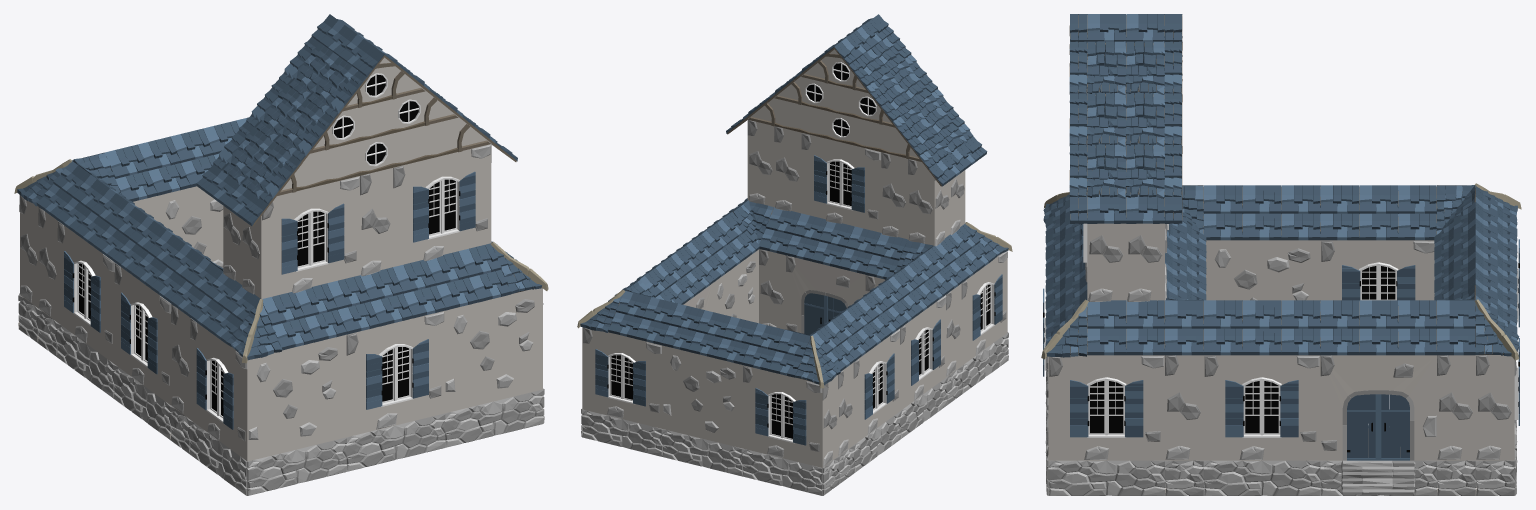
Rendered from House_7.fbx.
3 views of the same model, side by side, from view 1: azimuth 30°, elevation 25°; view 2: azimuth 150°, elevation 25°; view 3: azimuth 270°, elevation 25° (orthographic). The views are drawn at different scales.
Visible parts, largest first — view 1: WINDOW_04_16, WALL_06_3, WALL_06_2, WINDOW_04_17, WINDOW_04_18, WINDOW_04_19, WINDOW_04_21, WINDOW_04_22, WALL_06_7, FOUNDATION_01_2, FOUNDATION_01_3, FOUNDATION_01_4 (+79 smaller); view 2: WINDOW_04_23, WALL_06_4, WINDOW_04_24, WINDOW_04_20, DOOR_03_2, WINDOW_04_19, WINDOW_04_22, WINDOW_04_21, WALL_06_5, FOUNDATION_01_10, FOUNDATION_01_9, FOUNDATION_01_8 (+73 smaller); view 3: WINDOW_04_14, DOOR_03_4, WINDOW_04_15, WINDOW_04_25, WALL_06_6, FOUNDATION_01_6, FOUNDATION_01_5, WALL_03_6, WALL_03_5, WALL_03_7, WALL_03_9, WALL_03_10 (+55 smaller).
Part boxes in pixels (x1,y1,x2,y2): WINDOW_04_16: (346, 311, 444, 437); WALL_06_3: (444, 288, 542, 413); WALL_06_2: (247, 335, 345, 460); WINDOW_04_17: (392, 143, 491, 266); WINDOW_04_18: (261, 176, 359, 298); WINDOW_04_19: (190, 318, 249, 461); WINDOW_04_21: (114, 263, 171, 405); WINDOW_04_22: (57, 221, 114, 363); WALL_06_7: (156, 186, 223, 267); FOUNDATION_01_2: (247, 437, 346, 495); FOUNDATION_01_3: (345, 413, 445, 471); FOUNDATION_01_4: (444, 389, 543, 447); WINDOW_04_23: (742, 365, 823, 467); WALL_06_4: (662, 345, 742, 448); WINDOW_04_24: (582, 327, 662, 428); WINDOW_04_20: (801, 132, 881, 232); DOOR_03_2: (785, 255, 865, 334); WINDOW_04_19: (961, 251, 1007, 365); WINDOW_04_22: (853, 329, 899, 445); WINDOW_04_21: (899, 295, 946, 411); WALL_06_5: (713, 249, 758, 323); FOUNDATION_01_10: (741, 448, 823, 495); FOUNDATION_01_9: (661, 429, 742, 476); FOUNDATION_01_8: (581, 409, 662, 456); WINDOW_04_14: (1203, 355, 1320, 460); DOOR_03_4: (1320, 355, 1436, 460); WINDOW_04_15: (1048, 355, 1164, 460); WINDOW_04_25: (1320, 240, 1434, 300); WALL_06_6: (1206, 240, 1320, 300); FOUNDATION_01_6: (1203, 460, 1320, 495); FOUNDATION_01_5: (1048, 460, 1164, 495); WALL_03_6: (1475, 355, 1514, 460); WALL_03_5: (1437, 355, 1475, 460); WALL_03_7: (1165, 355, 1203, 460); WALL_03_9: (1087, 223, 1125, 301); WALL_03_10: (1126, 223, 1164, 301).
Bounding box in the file's own units: 1022 × 1159 × 1237.
